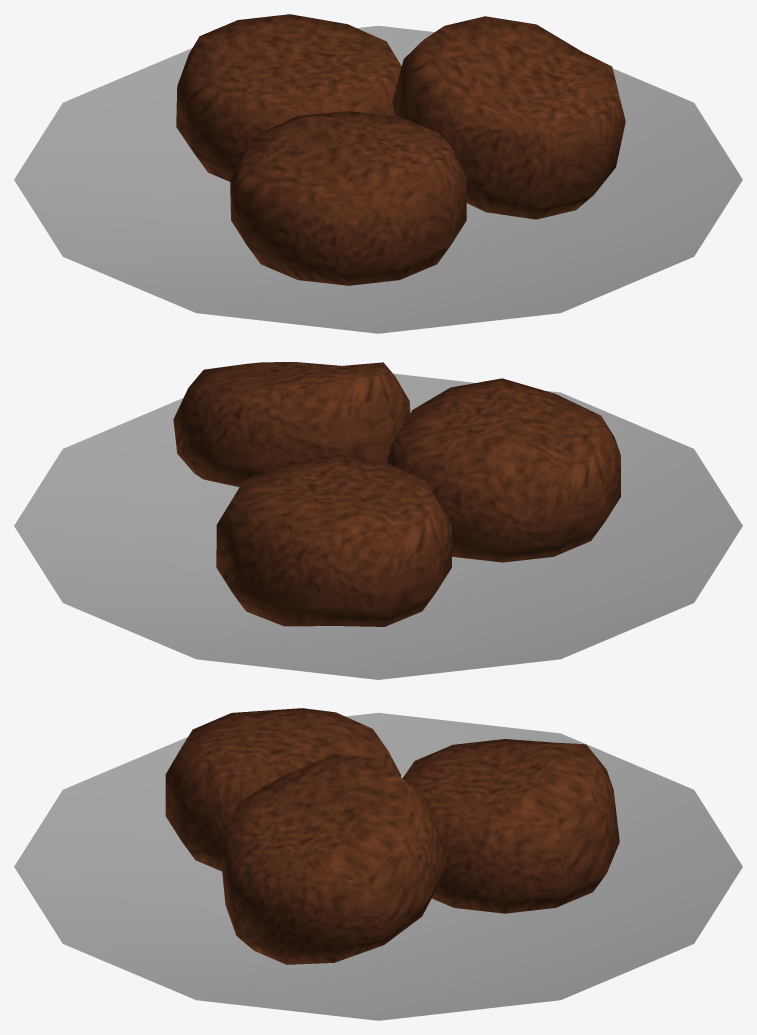
File: Falafel.glb
The picture shows the model from 3 angles, top to bottom: view 1: azimuth 30°, elevation 25°; view 2: azimuth 150°, elevation 25°; view 3: azimuth 270°, elevation 25°; orthographic projection.
Visible parts, largest first — view 1: Falafel.Plate; view 2: Falafel.Plate; view 3: Falafel.Plate.
Boxes of the visible parts, x1,y1,x2,y2 form: Falafel.Plate: (14, 14, 742, 333); Falafel.Plate: (14, 362, 742, 679); Falafel.Plate: (14, 708, 742, 1020).
Size of the model in its own units: 6.18 by 1.59 by 6.18.
2 materials, 1 textured.
